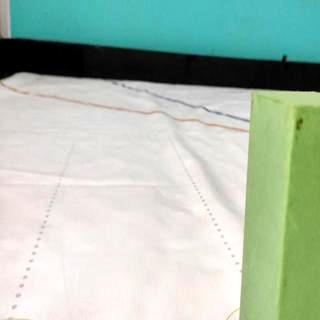greenbox: (239, 90, 320, 320)
